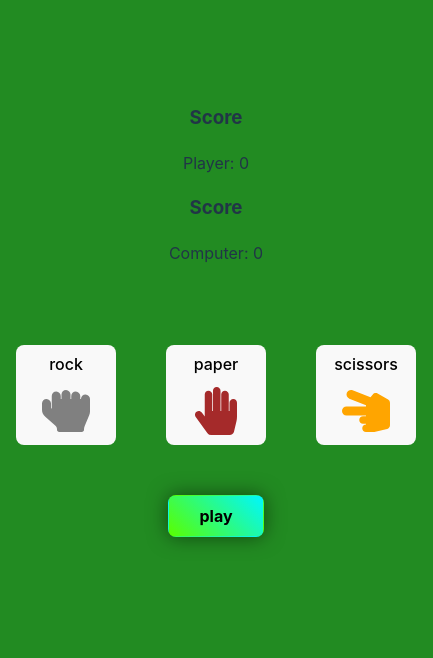
it: Score And Result › Should display a Draw after timer goes off in 3 seconds
Expected: the button "play" is shown, [168,494,264,536]
Step 1. Click the button "rock" → (66, 394), box [16,344,116,444]
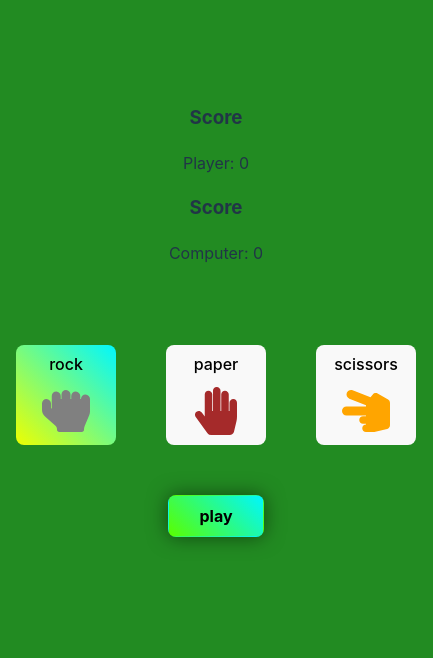
Step 2. Click the button "play" → (216, 516), box [168,494,264,536]
Wait 3000 ms
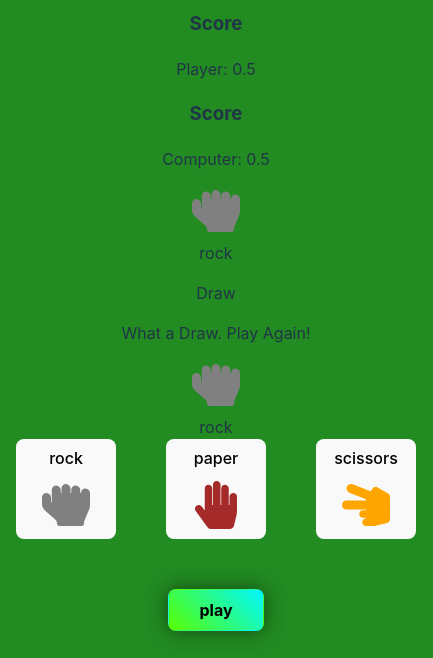
Result: the text "Draw" is shown at [196,282,236,302]
Result: the text "What a Draw. Play Again!" is shown at [121,322,310,342]
Result: the text "Player: 0.5" is shown at [176,59,256,79]
